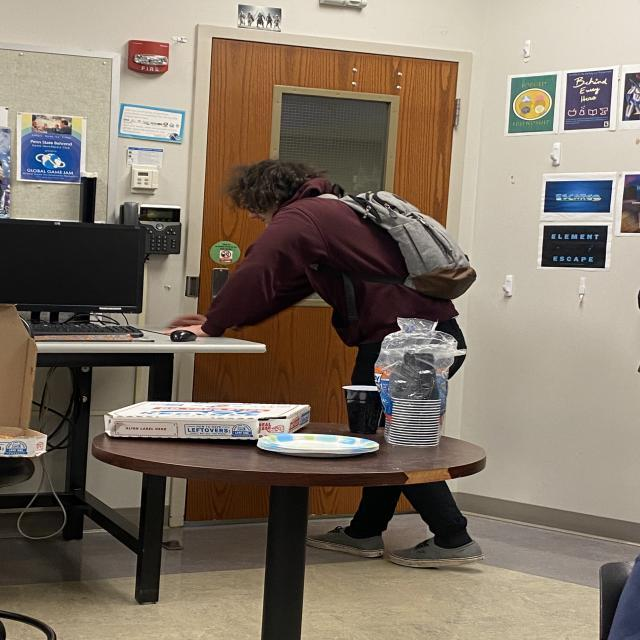Backpacks: (357, 181, 480, 299)
